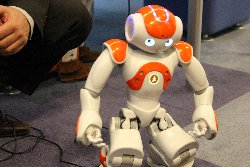nao: (67, 3, 224, 167)
